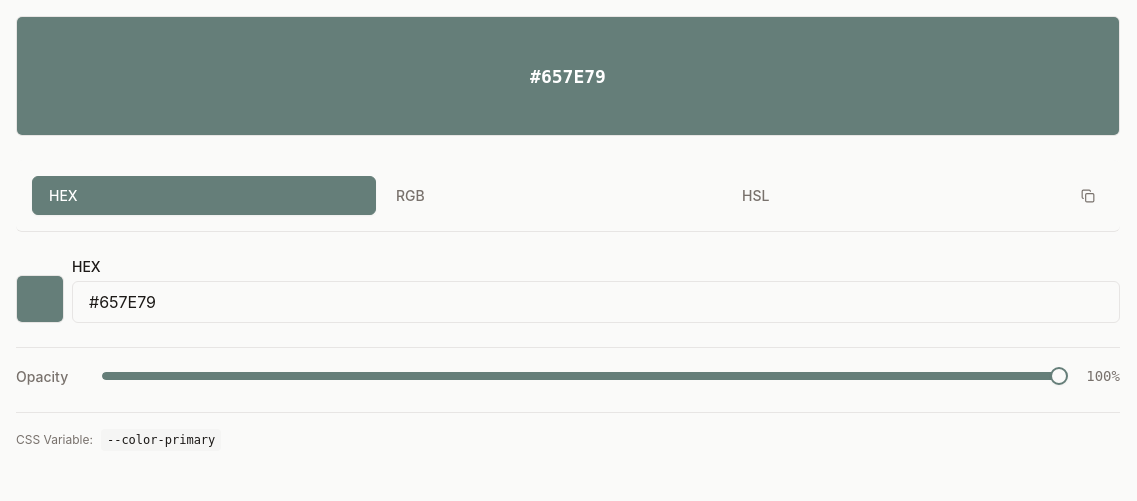
Scenario: Gate 3: Token Editing › ColorEditor › shows HSL sliders when HSL tab is active
# Click HSL tab
What coordinates should you click on to do the following:
click the button "HSL"
I would click on:
 (756, 196)
Its box is [726, 177, 1068, 214].
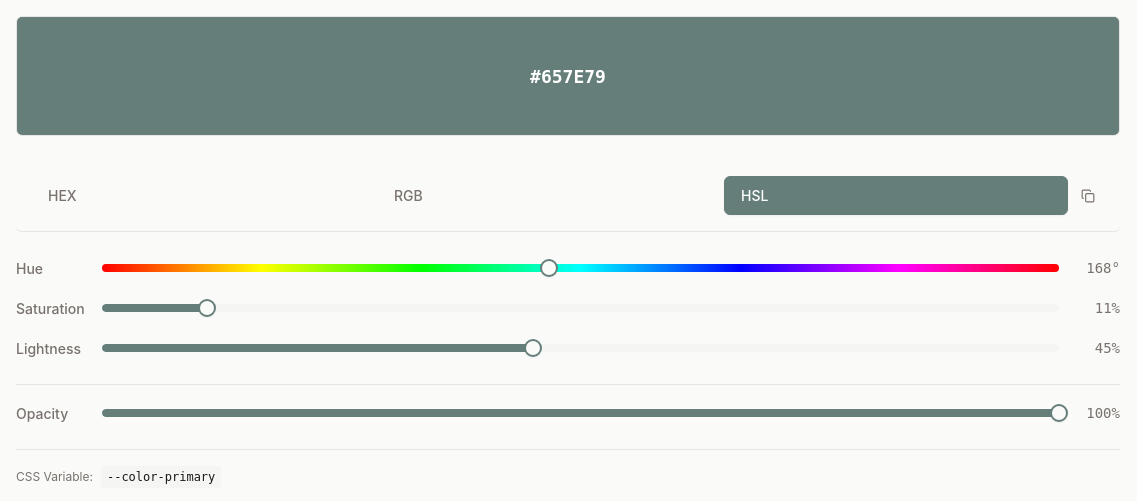
Now the text "Hue" is shown, box [16, 260, 43, 276]
Now the text "Saturation" is shown, box [16, 298, 86, 318]
Now the text "Lightness" is shown, box [16, 338, 86, 358]
